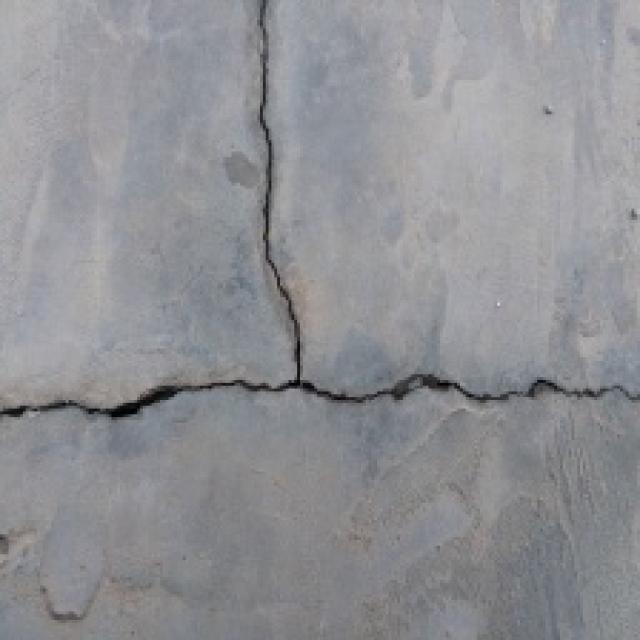crack: (0, 350, 640, 448), (232, 0, 332, 422)
